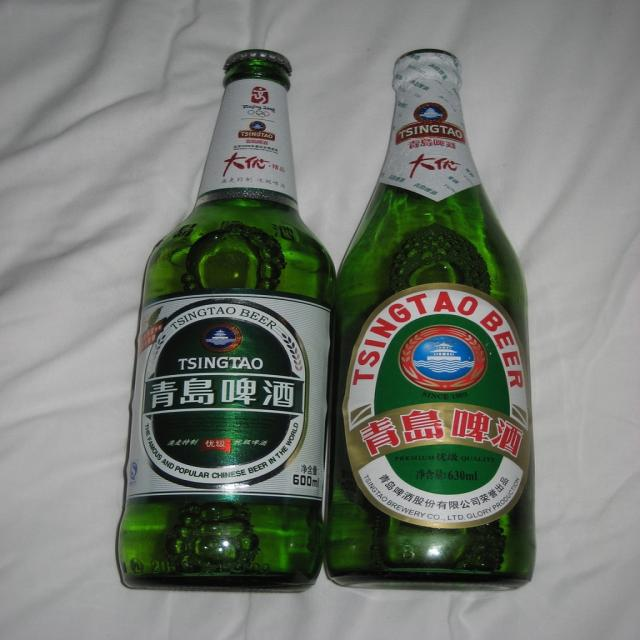tsingtao: (140, 299, 313, 489), (397, 324, 488, 393), (393, 102, 467, 145), (235, 122, 280, 143)
